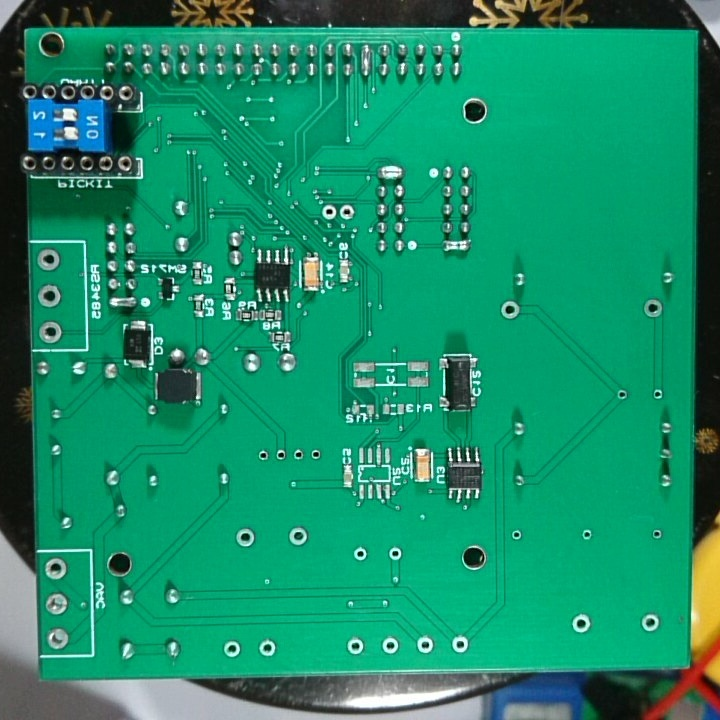F: (33, 246, 64, 275), (42, 589, 71, 620), (35, 318, 64, 346), (44, 623, 72, 652), (36, 280, 61, 312), (43, 555, 68, 583), (639, 297, 668, 321), (233, 525, 259, 551), (285, 526, 310, 552), (496, 298, 521, 323), (638, 611, 664, 635), (219, 637, 243, 662), (448, 635, 473, 658), (569, 612, 594, 635), (413, 633, 436, 657), (379, 635, 402, 658), (256, 639, 279, 661), (345, 635, 366, 659), (319, 201, 338, 224), (386, 544, 405, 565), (338, 200, 356, 221), (508, 526, 527, 544), (307, 445, 325, 464), (579, 526, 596, 545), (352, 545, 368, 564), (256, 447, 272, 466), (650, 526, 665, 543), (290, 447, 305, 464), (273, 446, 287, 464), (650, 387, 666, 402), (613, 387, 629, 402)
P: (440, 238, 476, 256), (375, 162, 405, 183), (358, 43, 373, 80), (106, 295, 139, 311)
